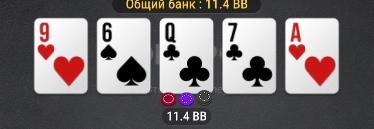6s: (98, 20, 150, 92)
7c: (223, 20, 274, 92)
9h: (36, 19, 87, 94)
Ah: (287, 19, 337, 92)
Qc: (161, 19, 212, 91)
